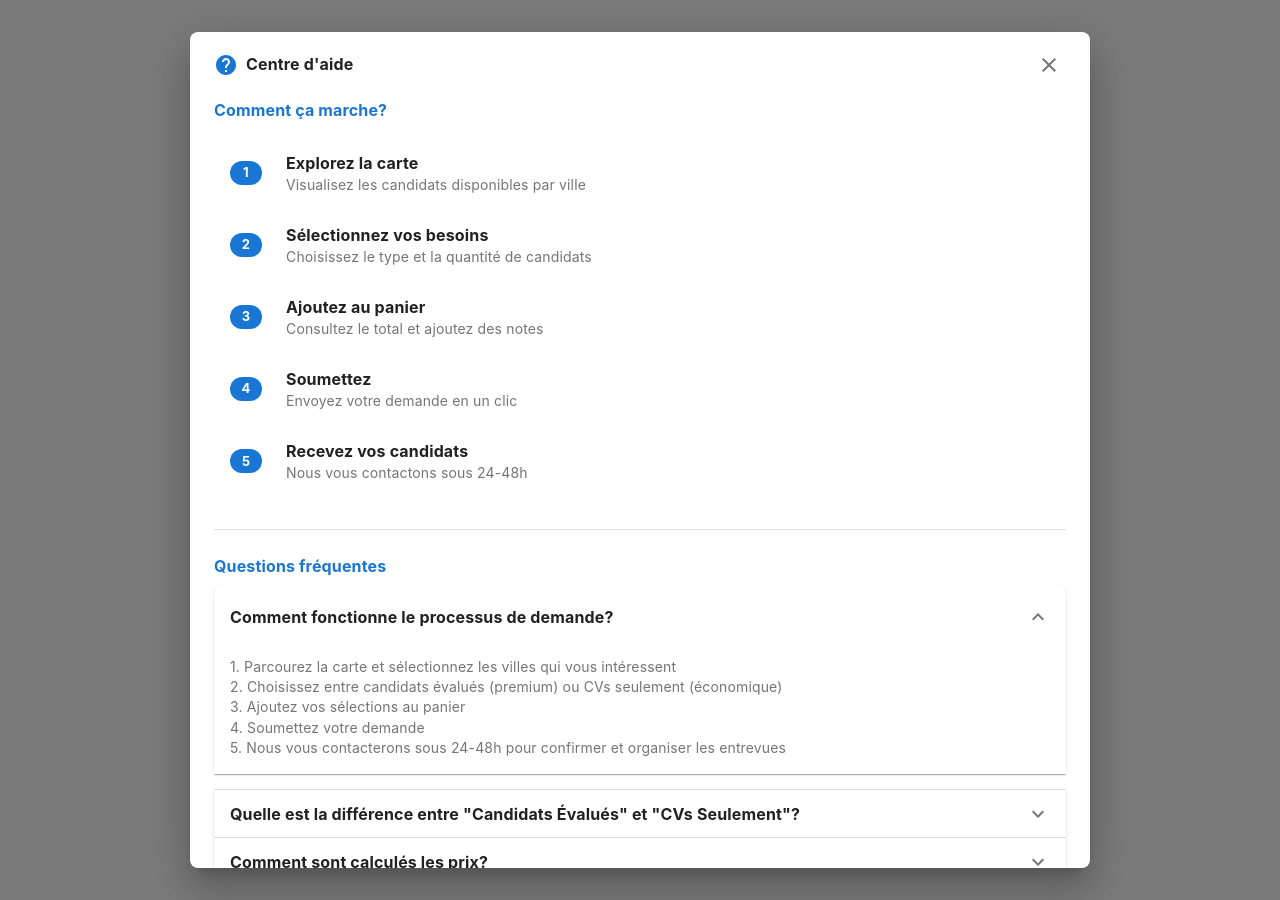
Test: ClientHelpDialog › déploie une autre FAQ au clic et révèle sa réponse
This screenshot has width=1280, height=900.
Click the button "Comment sont calculés les prix?" at [359, 862], box 230,850 -> 1050,874
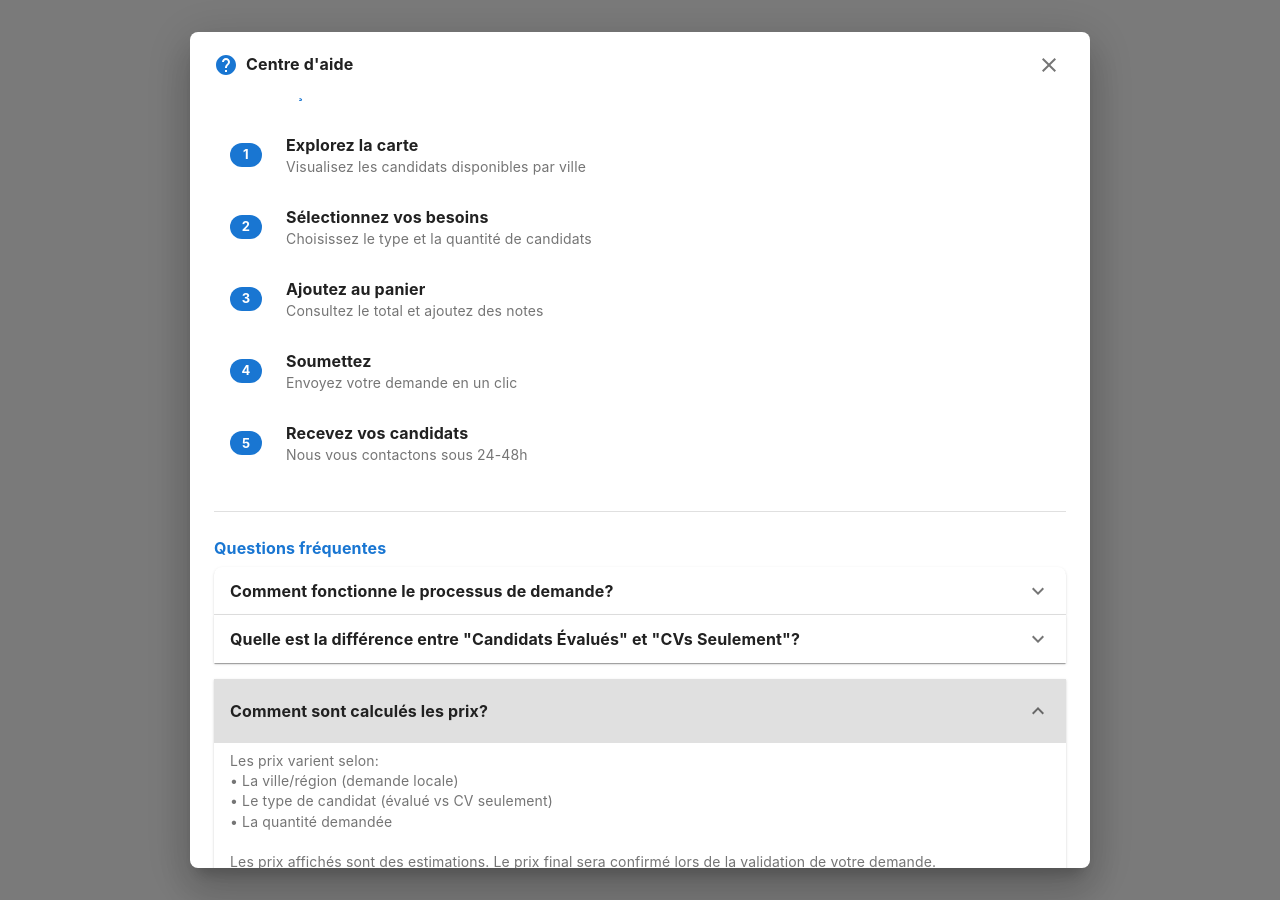
Expected: the text "La ville/région (demande locale)" is shown, 230,752 -> 936,868
